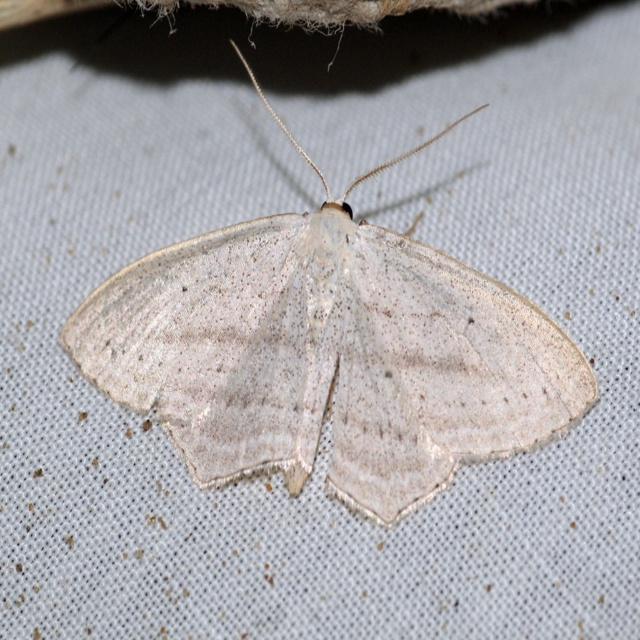Butterfly: (81, 25, 583, 539)
